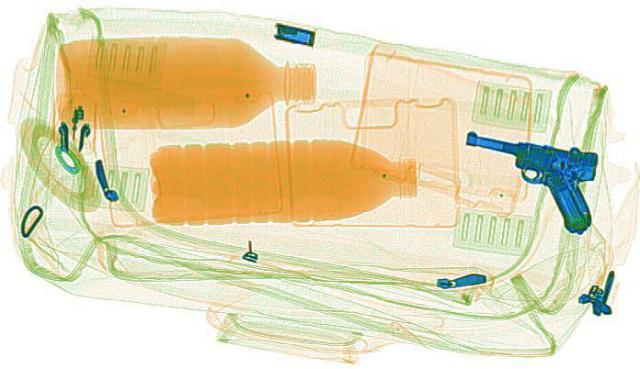Gun: (462, 118, 626, 239)
